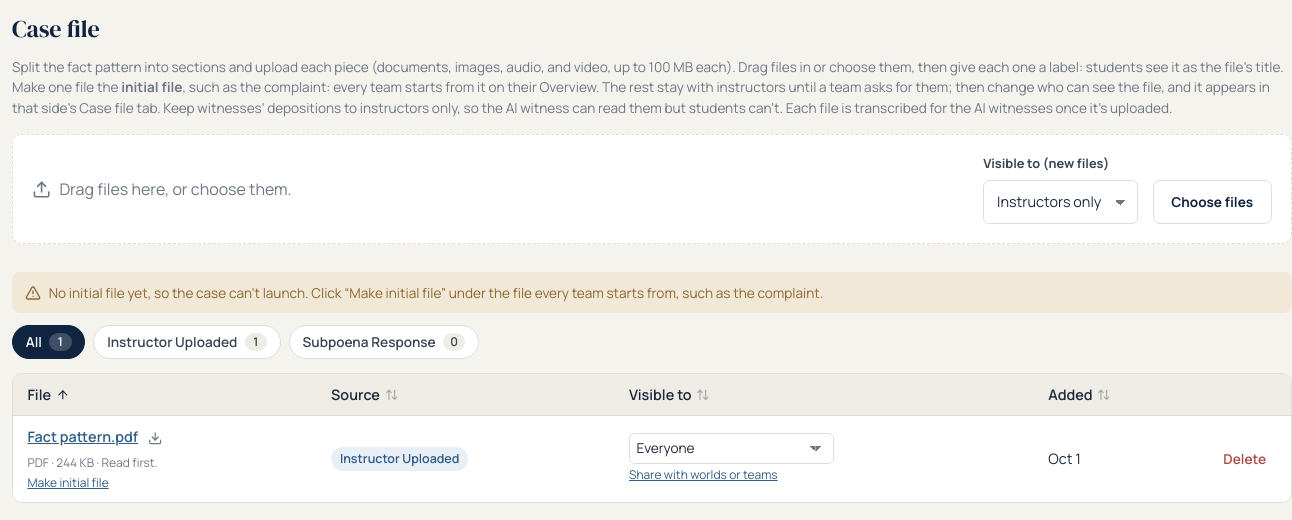
Test case: MaterialsSection › says when no files have a source yet
The image size is (1292, 520).
Click the button "Subpoena Response 0": {"x": 384, "y": 342} [289,325,479,359]
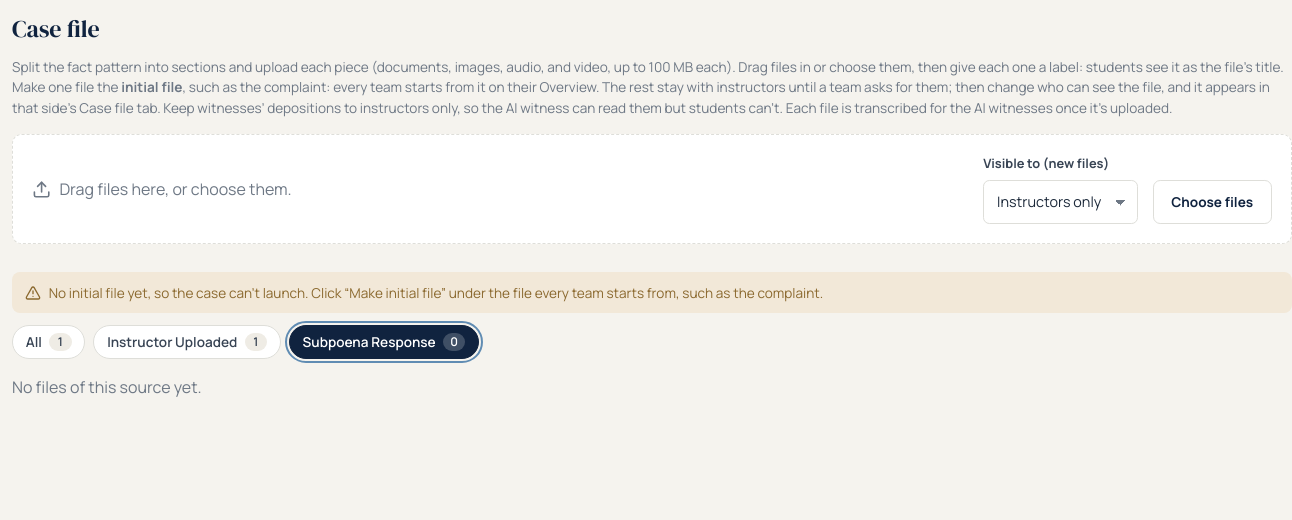
Check: the text "No files of this source yet." is shown, box [12,376,202,398]
